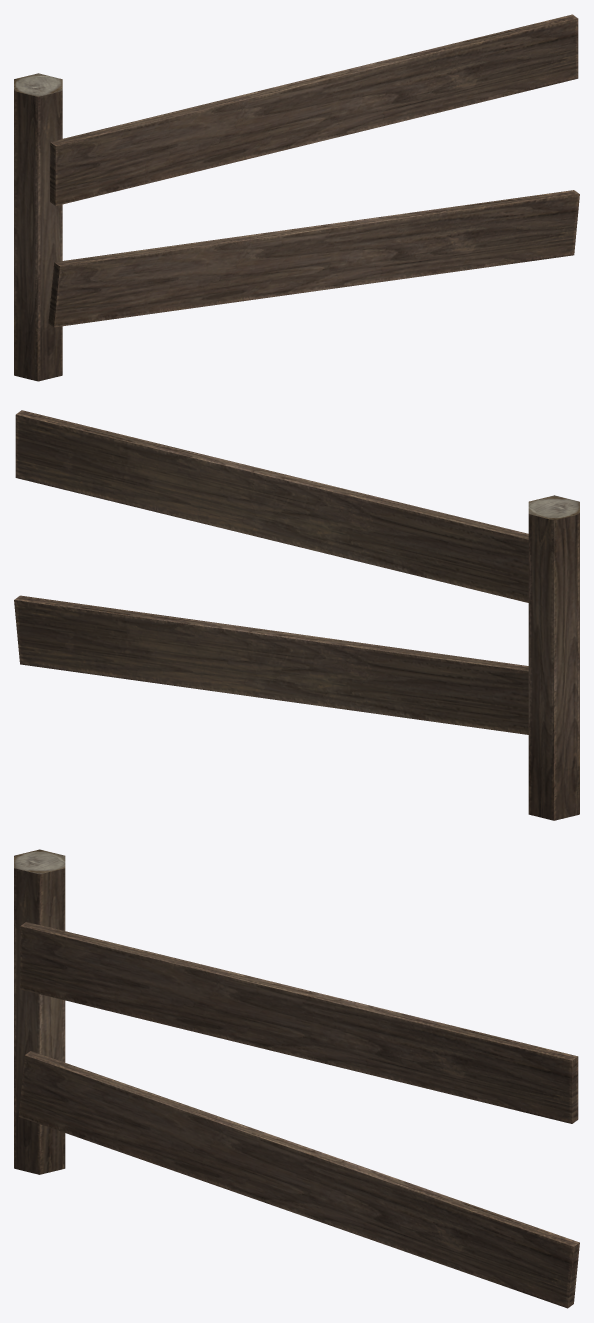
Rendered from Forest.Fence_2.fbx.
3 views of the same model, one above another, from view 1: azimuth 30°, elevation 25°; view 2: azimuth 150°, elevation 25°; view 3: azimuth 330°, elevation 25° (orthographic). The views are drawn at different scales.
Visible parts, largest first — view 1: Forest.Fence_2; view 2: Forest.Fence_2; view 3: Forest.Fence_2.
Boxes of the visible parts, x1=… form: Forest.Fence_2: x1=14, y1=14, x2=579, y2=381; Forest.Fence_2: x1=14, y1=410, x2=579, y2=820; Forest.Fence_2: x1=14, y1=849, x2=579, y2=1308.
Bounding box in the file's own units: 157 × 78.03 × 14.92.
